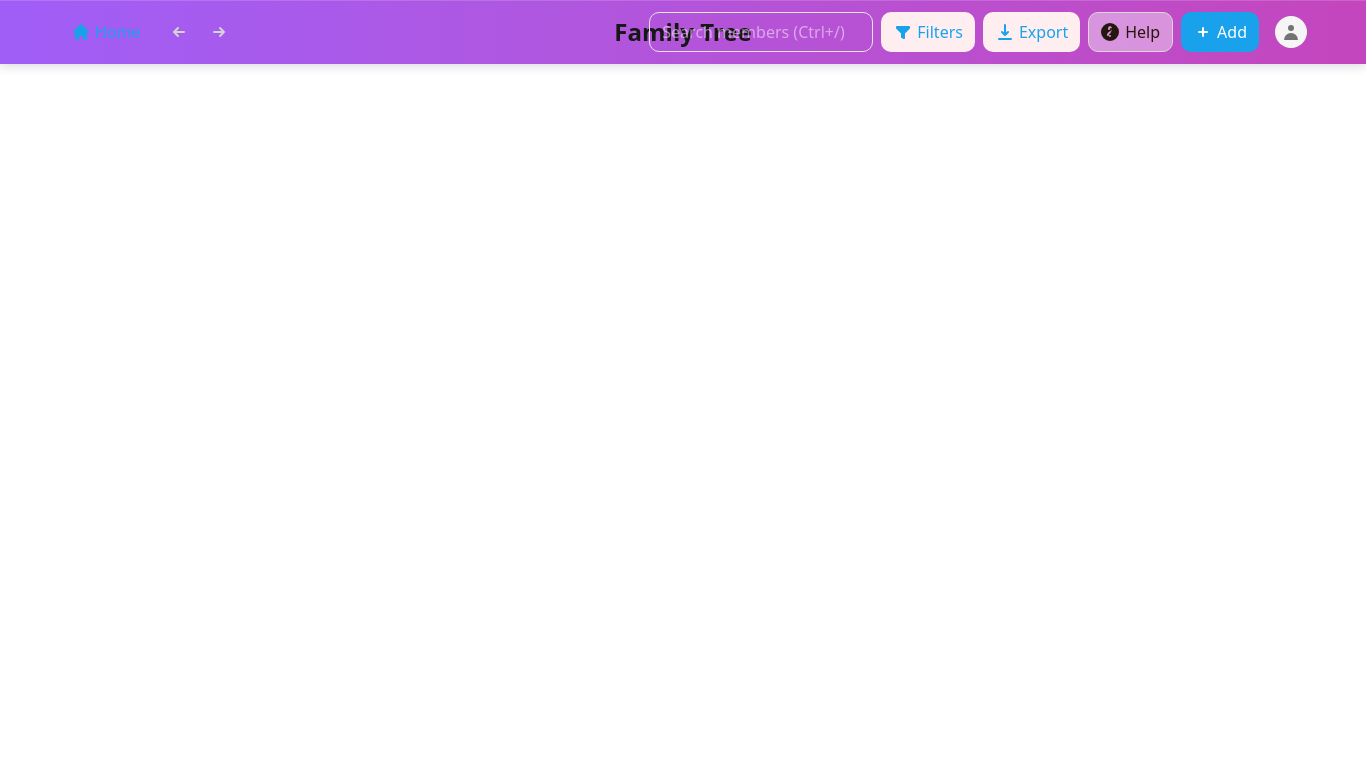
Test case: MainToolbar › AddMember modal uses gradient header and primary gradient CTA when opened
This screenshot has width=1366, height=768.
Click the button with aria-label "Add Member". click: (1220, 32)
box: [1181, 12, 1259, 52]
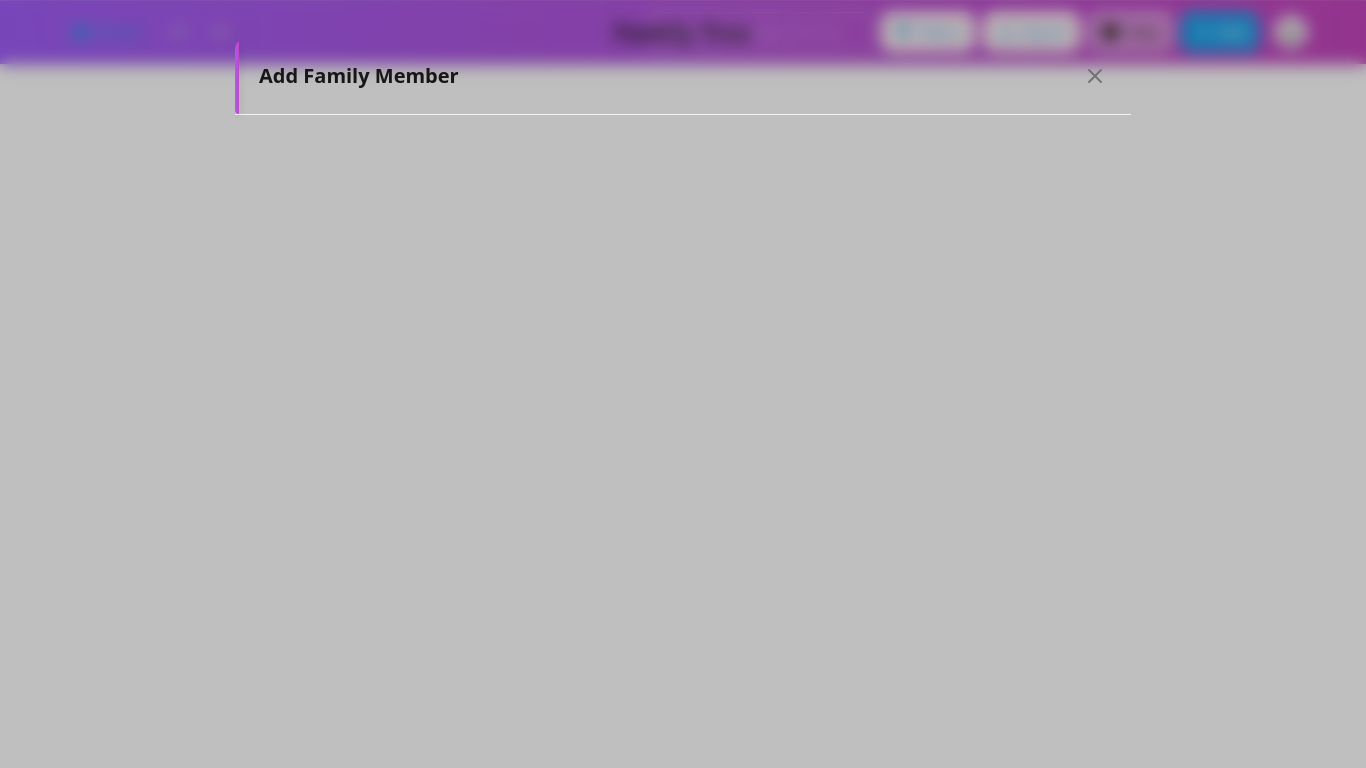
Expected: the 2nd element with class "top-0" is shown, [235, 38, 239, 114]
